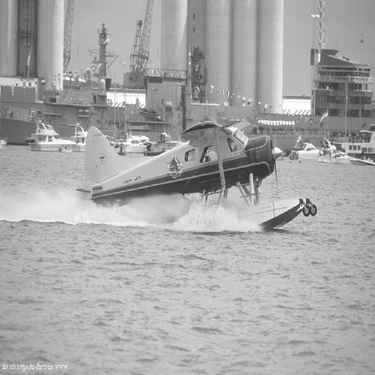airplane: (56, 105, 326, 234)
